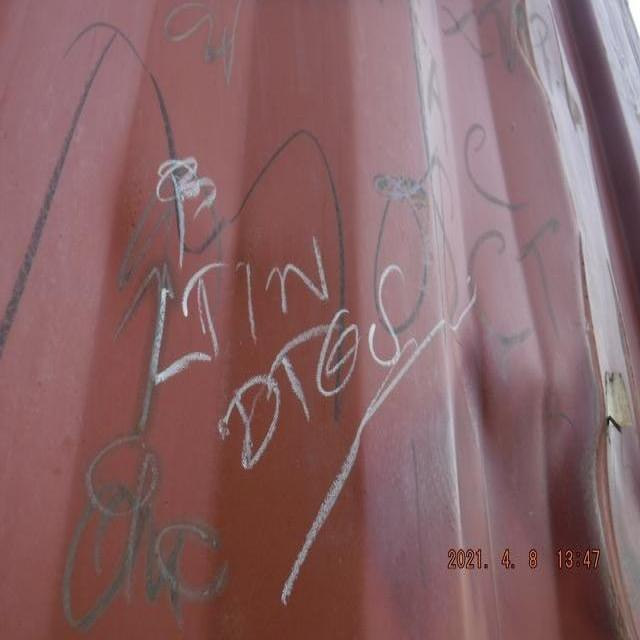Dent: (356, 242, 640, 514)
Minor-Dent: (473, 0, 595, 135)
